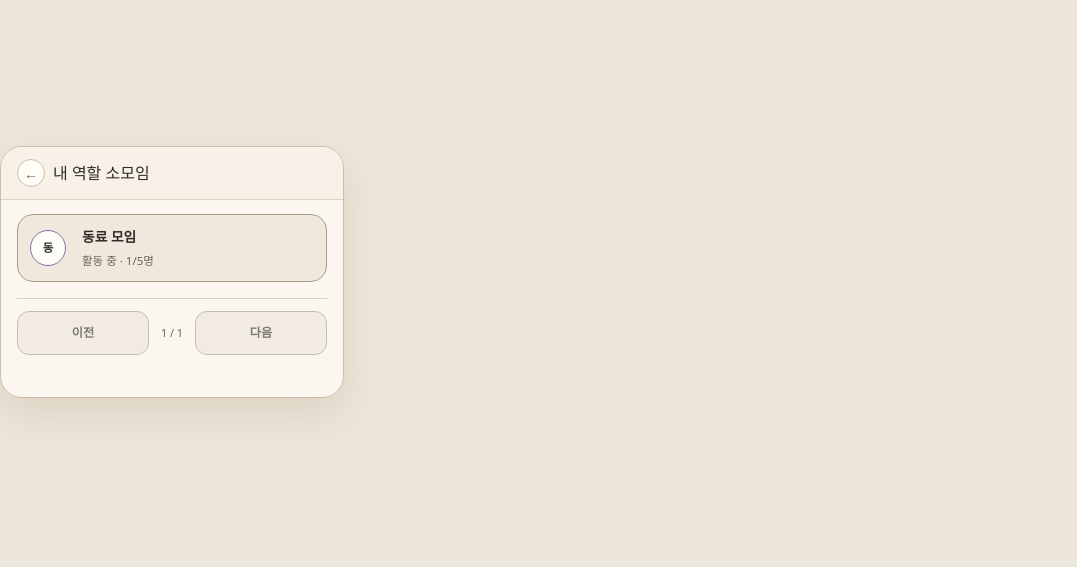
Test case: does not report a successful cancellation as failed when detail refresh fails
The image size is (1077, 567).
Click the button "동 동료 모임 활동 중 · 1/5명". click: click(48, 248)
box: [17,214,327,282]
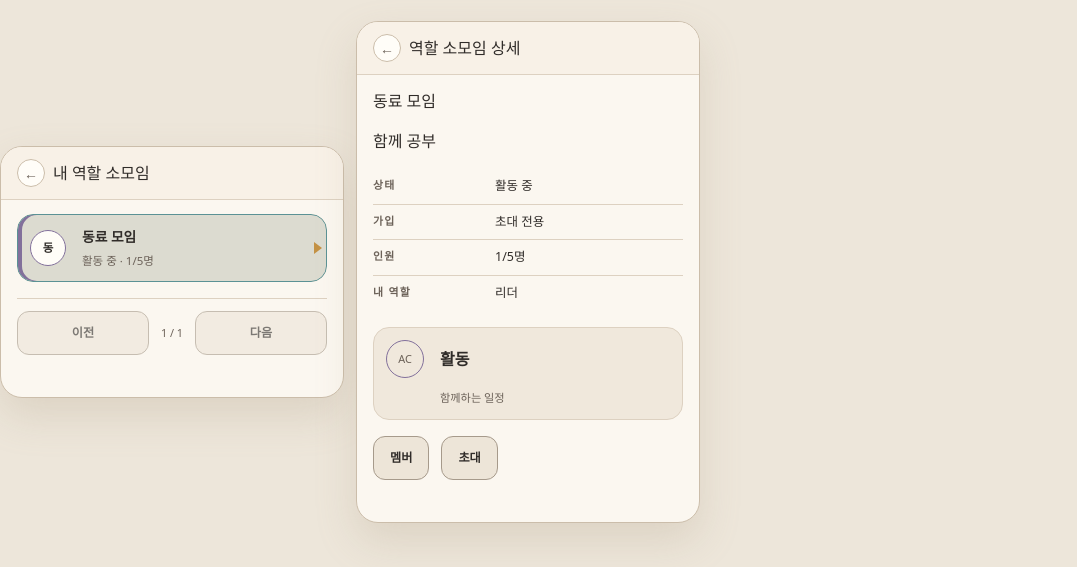
Click the button "초대". click: click(470, 458)
box: [441,436,498,480]
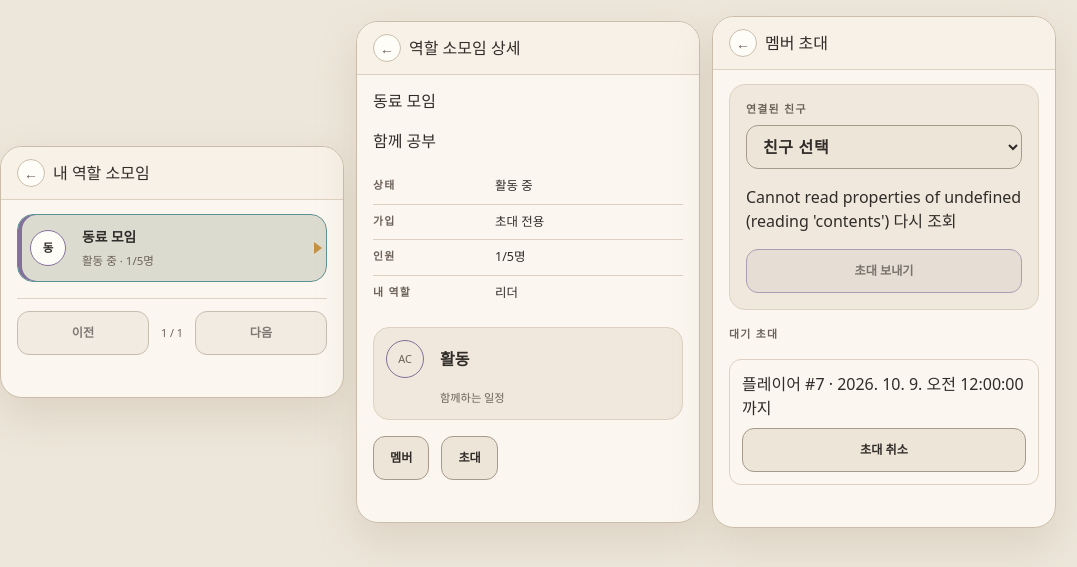
Click the button "초대 취소". click: click(884, 450)
box: [742,428,1026,472]
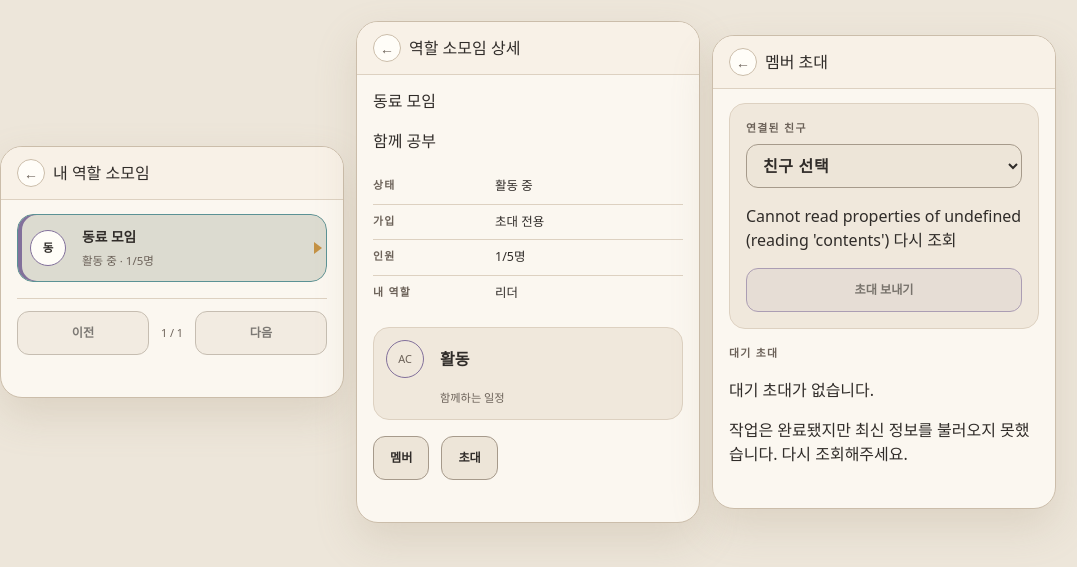
Expected: the text "작업은 완료됐지만 최신 정보를 불러오지 못했습니다. 다시 조회해주세요." is shown, [729,418,1039,466]
